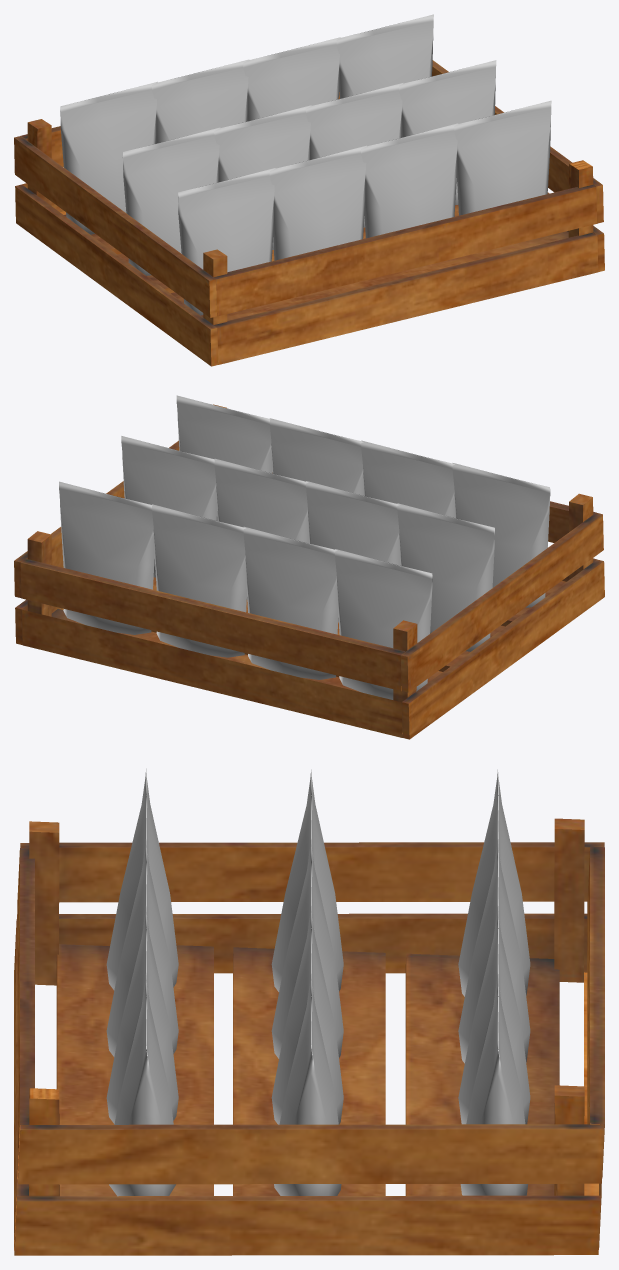
Rendered from Chips.002.fbx.
3 views of the same model, one above another, from view 1: azimuth 30°, elevation 25°; view 2: azimuth 150°, elevation 25°; view 3: azimuth 270°, elevation 25° (orthographic). The views are drawn at different scales.
Visible parts, largest first — view 1: Rack.003, Coriander.028, Coriander.029, Coriander.030, Coriander.023, Coriander.031, Coriander.027, Coriander.020, Coriander.021, Coriander.022, Coriander.024, Coriander.025 (+1 smaller); view 2: Rack.003, Coriander.020, Coriander.021, Coriander.022, Coriander.027, Coriander.023, Coriander.031, Coriander.024, Coriander.025, Coriander.026, Coriander.028, Coriander.029 (+1 smaller); view 3: Rack.003, Coriander.020, Coriander.024, Coriander.028, Coriander.021, Coriander.025, Coriander.023, Coriander.029, Coriander.022, Coriander.027, Coriander.026, Coriander.031 (+1 smaller).
Boxes of the visible parts, left/top/right/bottom form: Rack.003: left=14, top=60, right=604, bottom=366; Coriander.028: left=454, top=100, right=551, bottom=215; Coriander.029: left=361, top=123, right=458, bottom=238; Coriander.030: left=269, top=145, right=366, bottom=260; Coriander.023: left=60, top=81, right=157, bottom=234; Coriander.031: left=178, top=168, right=275, bottom=315; Coriander.027: left=122, top=127, right=220, bottom=275; Coriander.020: left=336, top=14, right=433, bottom=98; Coriander.021: left=243, top=37, right=340, bottom=121; Coriander.022: left=152, top=59, right=249, bottom=143; Coriander.024: left=399, top=60, right=496, bottom=204; Coriander.025: left=305, top=83, right=403, bottom=227; Rack.003: left=14, top=404, right=604, bottom=739; Coriander.020: left=59, top=481, right=154, bottom=634; Coriander.021: left=152, top=504, right=246, bottom=657; Coriander.022: left=243, top=526, right=338, bottom=679; Coriander.027: left=397, top=503, right=494, bottom=651; Coriander.023: left=335, top=549, right=432, bottom=699; Coriander.031: left=452, top=463, right=550, bottom=607; Coriander.024: left=121, top=436, right=216, bottom=577; Coriander.025: left=214, top=458, right=309, bottom=599; Coriander.026: left=306, top=481, right=400, bottom=621; Coriander.028: left=176, top=395, right=272, bottom=520; Coriander.029: left=270, top=418, right=364, bottom=495; Rack.003: left=14, top=818, right=604, bottom=1255; Coriander.020: left=460, top=973, right=527, bottom=1195; Coriander.024: left=274, top=973, right=341, bottom=1195; Coriander.028: left=109, top=973, right=175, bottom=1196; Coriander.021: left=458, top=905, right=530, bottom=1124; Coriander.025: left=271, top=905, right=343, bottom=1124; Coriander.023: left=458, top=769, right=530, bottom=996; Coriander.029: left=106, top=906, right=178, bottom=1123; Coriander.022: left=458, top=839, right=530, bottom=1063; Coriander.027: left=271, top=769, right=343, bottom=991; Coriander.026: left=271, top=839, right=343, bottom=1058; Coriander.031: left=106, top=768, right=178, bottom=990.
Size of the model in its own units: 0.6471 by 0.2219 by 0.563.
